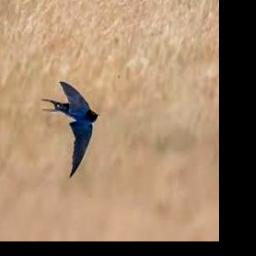Swallow: (42, 83, 99, 179)
